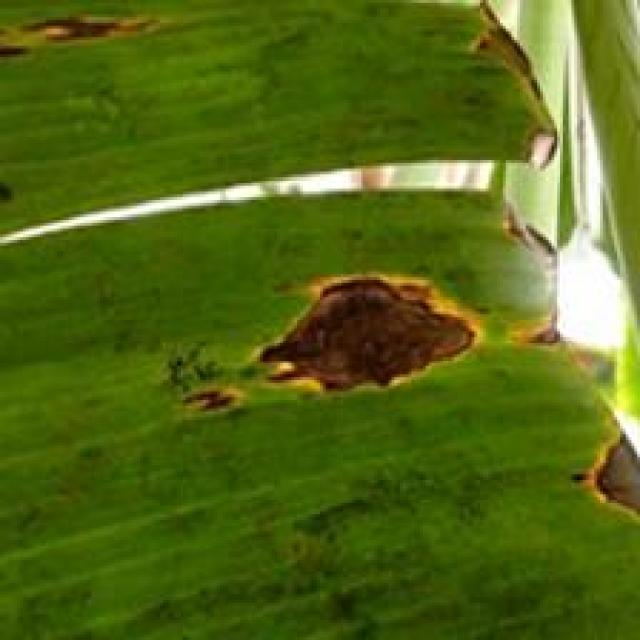Bacterial_spot: (238, 260, 494, 413), (0, 0, 163, 79), (562, 395, 640, 528), (478, 193, 576, 290), (145, 361, 261, 442), (457, 0, 551, 89), (495, 104, 567, 183), (498, 288, 574, 354)
